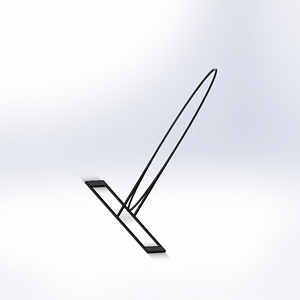circle: (84, 65, 217, 256)
